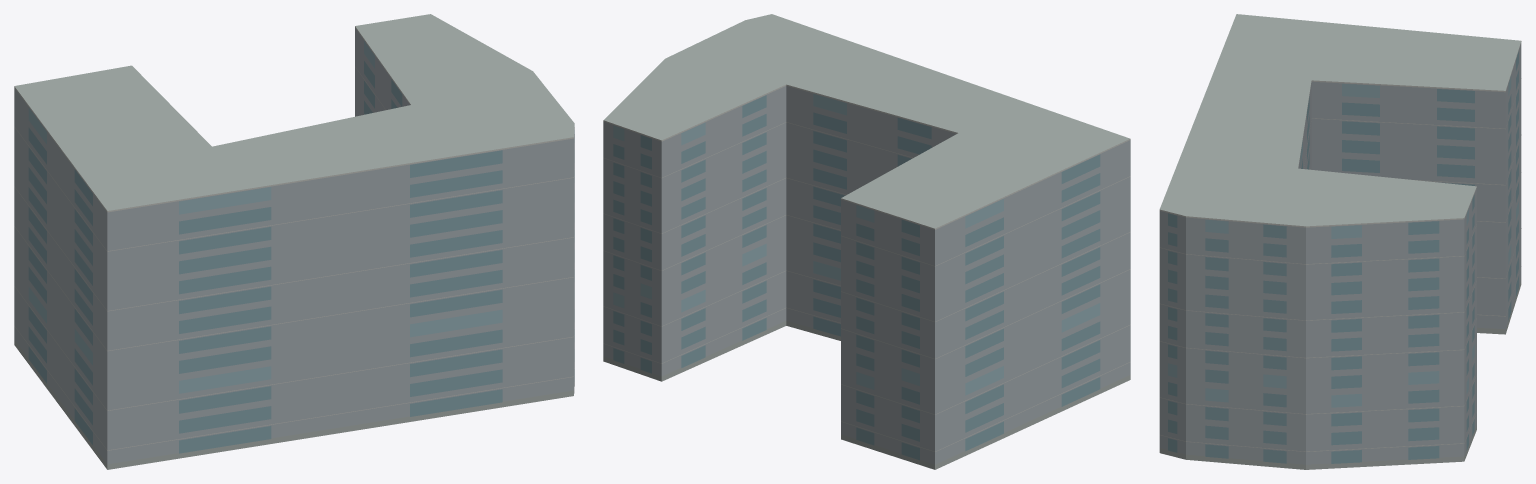
Rendered from residential-c262e6cd-4fbc-4d26-a4ca-05b04e316a49.glb.
3 views of the same model, side by side, from view 1: azimuth 30°, elevation 25°; view 2: azimuth 150°, elevation 25°; view 3: azimuth 270°, elevation 25° (orthographic). The views are drawn at different scales.
Parts seen in each view (by area): view 1: residential-c262e6cd-4fbc-4d26-a4ca-05b04e316a49.tmp; view 2: residential-c262e6cd-4fbc-4d26-a4ca-05b04e316a49.tmp; view 3: residential-c262e6cd-4fbc-4d26-a4ca-05b04e316a49.tmp.
Boxes of the visible parts, x1,y1,x2,y2 form: residential-c262e6cd-4fbc-4d26-a4ca-05b04e316a49.tmp: (14, 14, 574, 469); residential-c262e6cd-4fbc-4d26-a4ca-05b04e316a49.tmp: (603, 14, 1130, 469); residential-c262e6cd-4fbc-4d26-a4ca-05b04e316a49.tmp: (1159, 14, 1521, 469).
Size of the model in its own units: 84.15 by 45 by 60.61.
